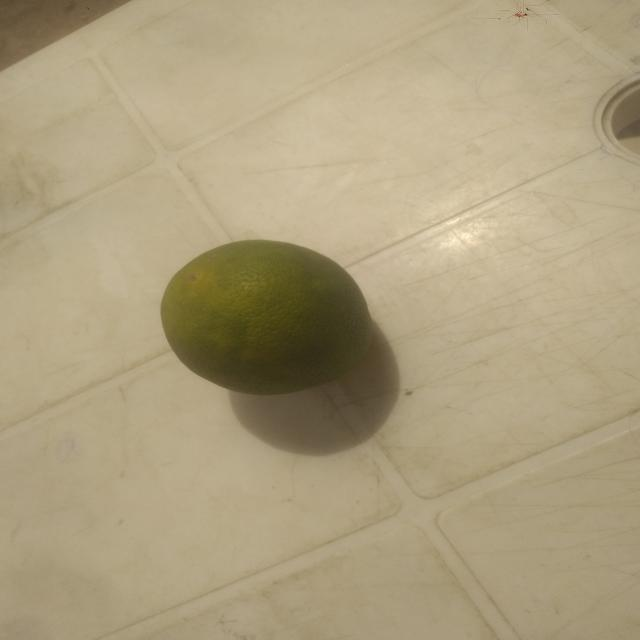Unripe: (156, 238, 381, 410)
